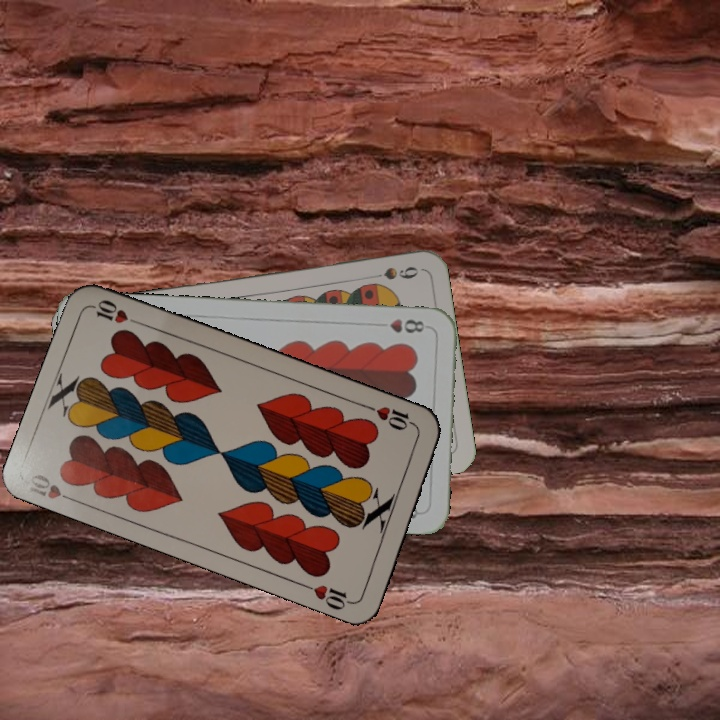H10: (23, 469, 81, 508), (363, 401, 419, 433)
H8: (372, 315, 426, 336)
S9: (367, 262, 422, 282)
